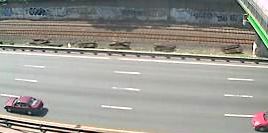car: (2, 94, 48, 117)
